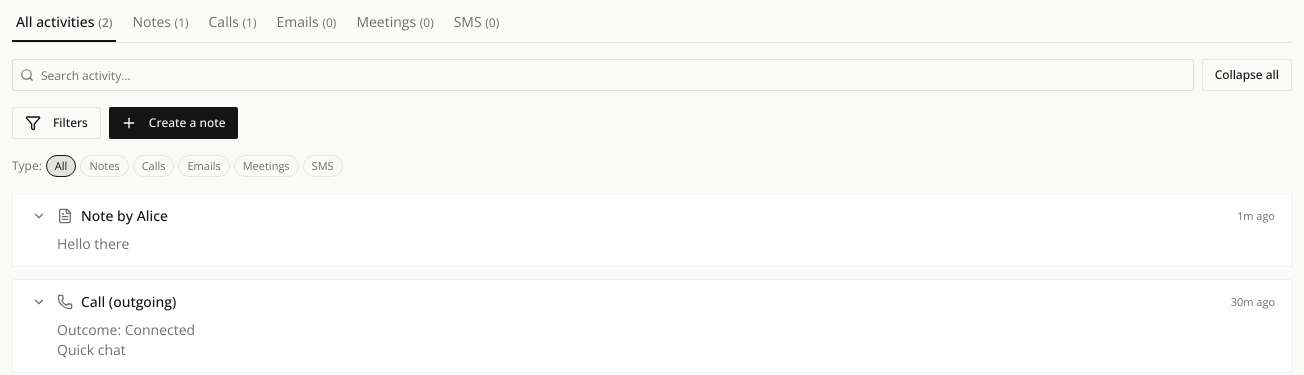
Test: ContactActivityFeed › filter tab narrows the visible entries
The image size is (1304, 375).
Click the tab "Calls (1)" at (232, 27), box [204,12,260,42]
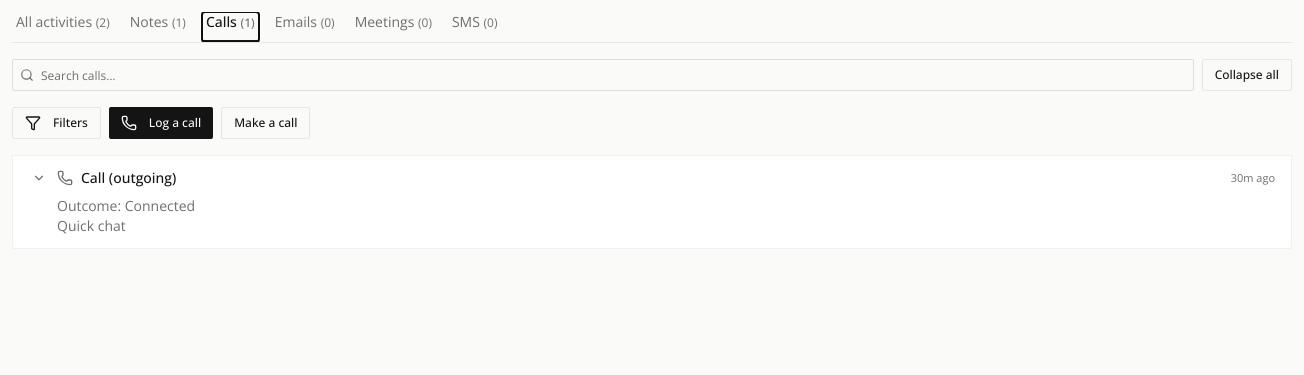
Expected: the heading "Call (outgoing)" is shown, [81,168,176,187]
Result: the heading "Note by Alice" is gone
